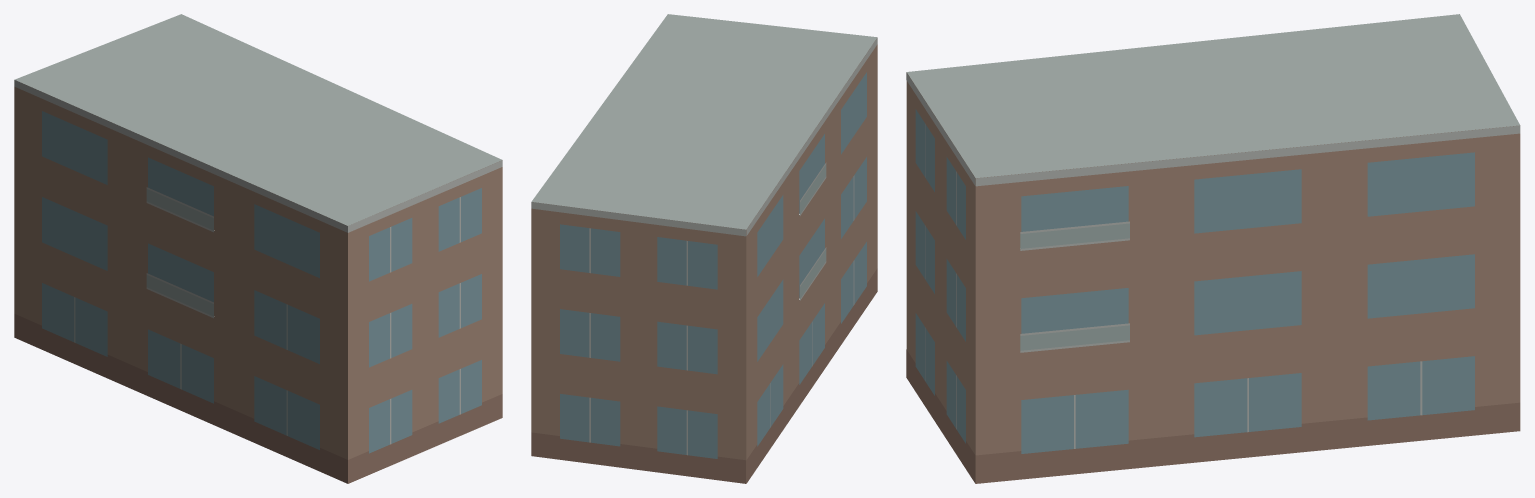
The model's file is survey-upis-32712865.glb.
3 views of the same model, side by side, from view 1: azimuth 30°, elevation 25°; view 2: azimuth 150°, elevation 25°; view 3: azimuth 270°, elevation 25° (orthographic). The views are drawn at different scales.
Parts seen in each view (by area): view 1: survey-upis-32712865.tmp; view 2: survey-upis-32712865.tmp; view 3: survey-upis-32712865.tmp.
Part boxes in pixels (box(x1,y1,x2,y2)): survey-upis-32712865.tmp: box(14, 14, 502, 483); survey-upis-32712865.tmp: box(531, 14, 877, 483); survey-upis-32712865.tmp: box(906, 14, 1520, 483).
Bounding box in the file's own units: 10.55 × 9.15 × 16.66.
